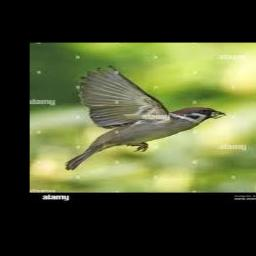Sparrow: (65, 66, 225, 170)
